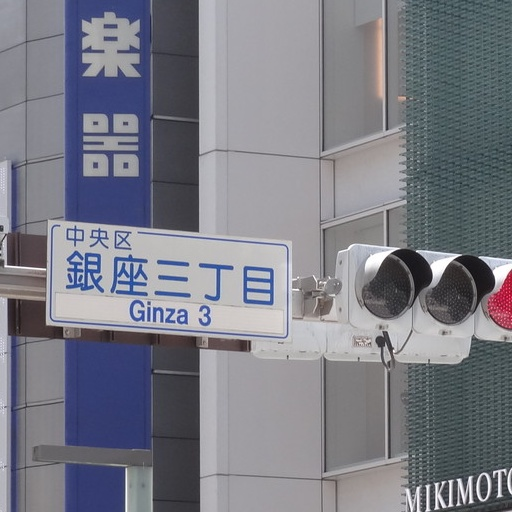Traffic_Signal_Red: (348, 247, 508, 341)
